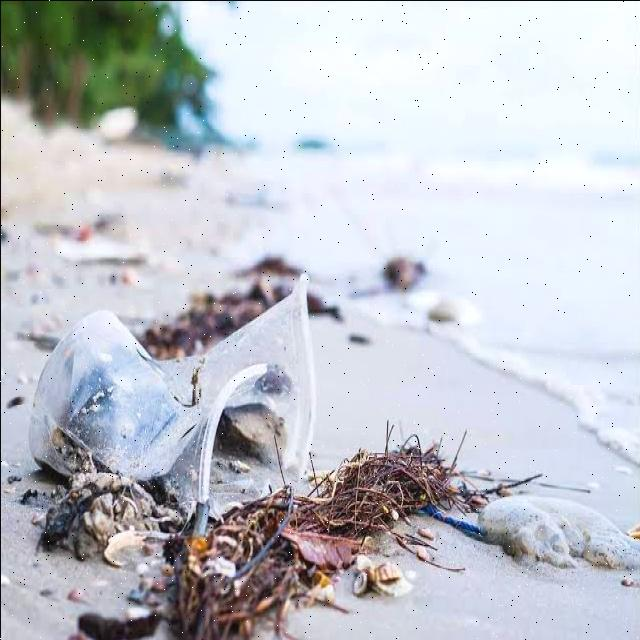plastic: (31, 302, 373, 534)
